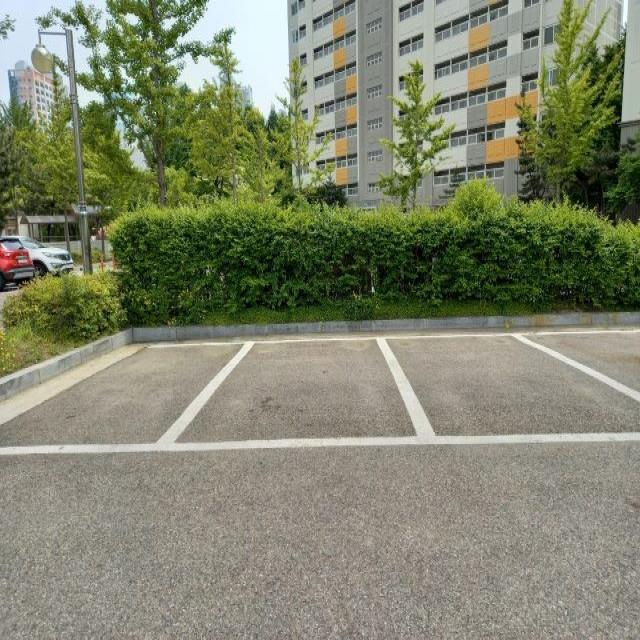empty: (18, 334, 218, 463), (405, 338, 605, 456), (214, 332, 405, 452)
